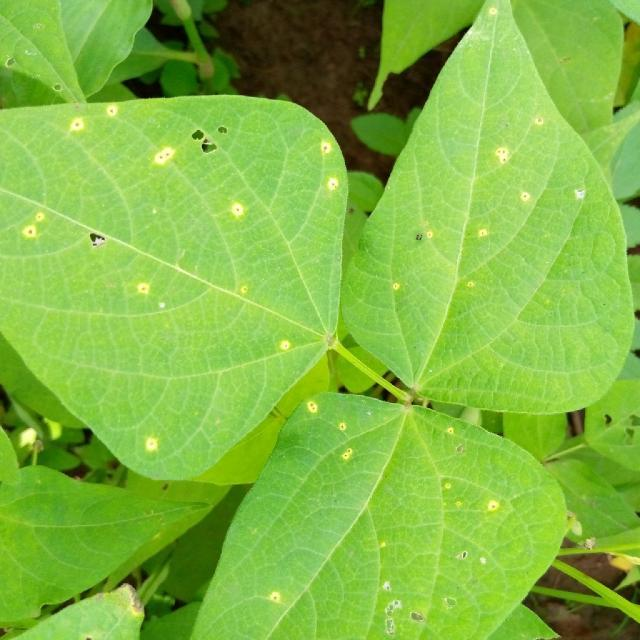hawar: (482, 123, 565, 234), (170, 126, 239, 162), (76, 215, 118, 269), (392, 215, 434, 258)
mozaik: (370, 560, 489, 640)
sehat: (141, 198, 329, 437), (466, 285, 566, 401)
